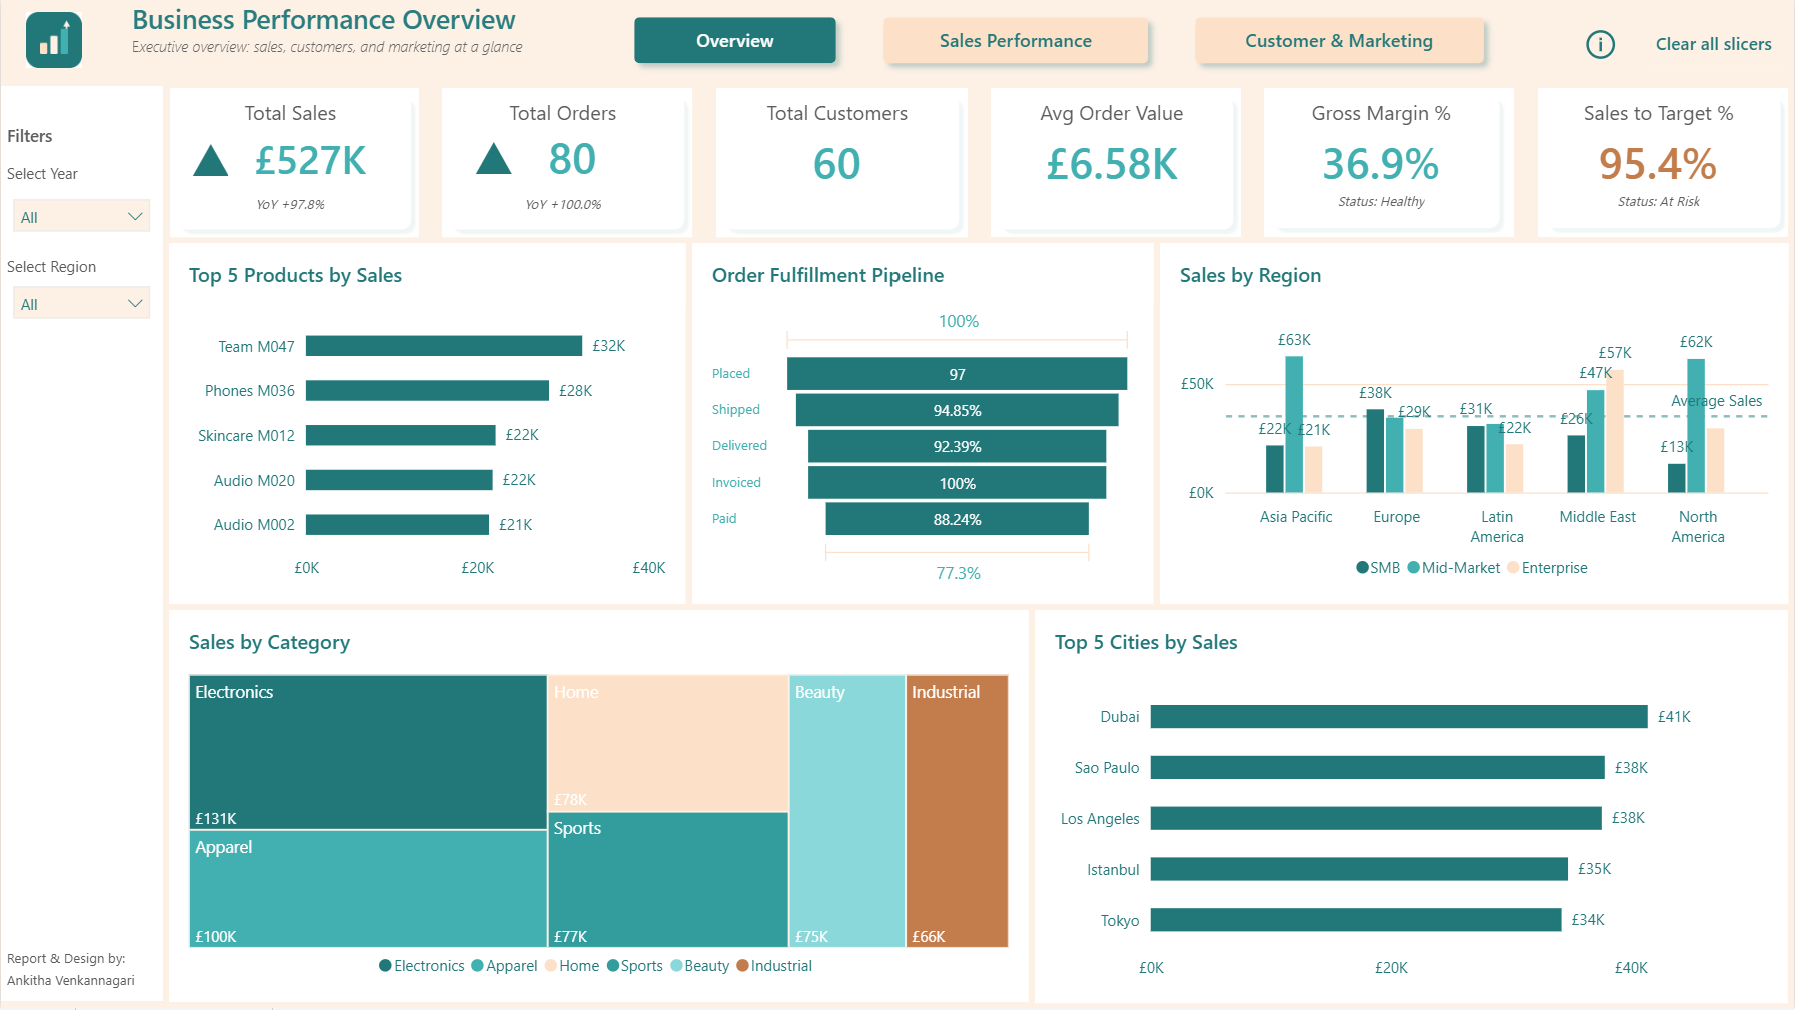

The dashboard page shown, as its layout file describes it:
{"tool":"powerbi","page":{"name":"Overview","canvas":[1440,810],"ordinal":0},"visuals":[{"type":"shape","title":"side_shape","box":[0,69,130,735],"z":0,"group":"g1"},{"type":"shape","box":[135.4,70.5,200,120],"z":0,"group":"g6"},{"type":"shape","box":[354.7,70.5,200.9,120],"z":0,"group":"g7"},{"type":"shape","box":[575,70.5,200.9,120],"z":0,"group":"g2"},{"type":"shape","box":[794.6,70.5,200.9,120],"z":0,"group":"g3"},{"type":"shape","box":[1014.3,70.5,195.5,118.9],"z":0,"group":"g4"},{"type":"shape","box":[1234,70.5,201,118.9],"z":0,"group":"g5"},{"type":"textbox","title":"Business Performance Overview","box":[105,0,341.2,60],"z":1000},{"type":"textbox","box":[1038.6,79.4,140.4,24.8],"z":1000,"group":"g4"},{"type":"textbox","box":[1259,79.4,144.3,24.8],"z":1000,"group":"g5"},{"type":"textbox","box":[160.3,79.5,143.6,25],"z":1000,"group":"g6"},{"type":"textbox","box":[379.7,79.5,144.2,25],"z":1000,"group":"g7"},{"type":"textbox","box":[600,79.5,144.2,25],"z":1000,"group":"g2"},{"type":"textbox","box":[819.6,79.5,144.2,25],"z":1000,"group":"g3"},{"type":"textbox","box":[5,100,120,20],"z":1000,"group":"g1"},{"type":"actionButton","box":[500,5,180,55],"z":2000},{"type":"cardVisual","fields":{"Data":["_measures.total_orders"]},"box":[409,100,100,50],"z":2000,"group":"g7"},{"type":"cardVisual","fields":{"Data":["_measures.total_sales"]},"box":[185,100.3,125.9,50.5],"z":2000,"group":"g6"},{"type":"cardVisual","fields":{"Data":["_measures.Gross Margin %"]},"box":[1038.6,104.1,140.4,49.5],"z":2000,"group":"g4"},{"type":"cardVisual","fields":{"Data":["_measures.Sales to Target %"]},"box":[1259,104.1,144.3,49.5],"z":2000,"group":"g5"},{"type":"cardVisual","fields":{"Data":["_measures.Total Customers"]},"box":[600,104.5,144.2,50],"z":2000,"group":"g2"},{"type":"cardVisual","fields":{"Data":["_measures.Avg Order Value"]},"box":[819.6,104.5,144.2,50],"z":2000,"group":"g3"},{"type":"textbox","box":[5,130,120,20],"z":2000,"group":"g1"},{"type":"actionButton","box":[700,5,230,55],"z":3000},{"type":"cardVisual","fields":{"Data":["_measures.Margin Insight"]},"box":[1038.6,143.8,140.4,35.9],"z":3000,"group":"g4"},{"type":"cardVisual","fields":{"Data":["_measures.Target Insight"]},"box":[1259,143.8,144.3,35.9],"z":3000,"group":"g5"},{"type":"cardVisual","fields":{"Data":["_measures.Sales Insight"]},"box":[160.3,144.5,143.6,36.2],"z":3000,"group":"g6"},{"type":"cardVisual","fields":{"Data":["_measures.Orders Insight"]},"box":[379.7,144.5,144.2,36.2],"z":3000,"group":"g7"},{"type":"slicer","fields":{"Values":["dim_date.Year"]},"box":[5,155,120,35],"z":3000,"group":"g1"},{"type":"actionButton","box":[950,5,250,55],"z":4000},{"type":"textbox","box":[5,205,120,20],"z":4000,"group":"g1"},{"type":"slicer","fields":{"Values":["dim_geo.region"]},"box":[5,225,120,35],"z":5000,"group":"g1"},{"type":"treemap","title":"Sales by Category","fields":{"Group":["dim_product.category"],"Values":["_measures.total_sales"]},"box":[135,490,690,315],"z":5000},{"type":"clusteredColumnChart","title":"Sales by Region","fields":{"Category":["dim_geo.region"],"Series":["dim_customer.segment"],"Y":["_measures.total_sales"]},"box":[930.4,195,505,290],"z":6000},{"type":"textbox","box":[5,760,120,40],"z":6000,"group":"g1"},{"type":"funnel","title":"Order Fulfillment Pipeline","fields":{"Category":["FulfillmentFunnelStages.Stage"],"Y":["_measures.Funnel Stage Value"]},"box":[555,195,370,290],"z":7000},{"type":"barChart","title":"Top 5 Products by Sales","fields":{"Category":["dim_product.product_name"],"Y":["_measures.total_sales"]},"box":[135,195,415,290],"z":8000},{"type":"barChart","title":"Top 5 Cities by Sales","fields":{"Category":["dim_geo.city"],"Y":["_measures.total_sales"]},"box":[830,490,605,315.9],"z":9000},{"type":"actionButton","box":[1259.4,15.1,50,40],"z":10000},{"type":"actionButton","box":[1315.9,15.1,118.1,40.4],"z":11000},{"type":"image","box":[20,10,45,45],"z":12000},{"type":"group","id":"g1","title":"Group 1","box":[0,69,130,735],"z":13000},{"type":"group","id":"g2","title":"Group 2","box":[575,70.5,200.9,120],"z":14000},{"type":"group","id":"g3","title":"Group 2","box":[794.6,70.5,200.9,120],"z":15000},{"type":"group","id":"g4","title":"Group 2","box":[1014.3,70.5,200.4,120],"z":16000},{"type":"group","id":"g5","title":"Group 2","box":[1234,70.5,200,120],"z":17000},{"type":"group","id":"g6","title":"Group 3","box":[135.4,70.5,200,120],"z":18000},{"type":"group","id":"g7","title":"Group 4","box":[354.7,70.5,200.9,120],"z":19000},{"type":"cardVisual","fields":{"Data":["_measures.Sales Trend Arrow"]},"box":[136,100,62,50],"z":20000,"group":"g6"},{"type":"cardVisual","fields":{"Data":["_measures.Orders Trend Arrow"]},"box":[364,100,66,46],"z":20001,"group":"g7"}]}

Visuals, with their boxes in screenshot pixels (x1, y1, x2, y2), scaled from the page's 1440x810 canvas onto the 1795x1010 screenshot:
"side_shape" shape: <region>0, 86, 162, 1003</region>
shape: <region>169, 88, 418, 238</region>
shape: <region>442, 88, 693, 238</region>
shape: <region>717, 88, 967, 238</region>
shape: <region>990, 88, 1241, 238</region>
shape: <region>1264, 88, 1508, 236</region>
shape: <region>1538, 88, 1789, 236</region>
"Business Performance Overview" textbox: <region>131, 0, 556, 75</region>
textbox: <region>1295, 99, 1470, 130</region>
textbox: <region>1569, 99, 1749, 130</region>
textbox: <region>200, 99, 379, 130</region>
textbox: <region>473, 99, 653, 130</region>
textbox: <region>748, 99, 928, 130</region>
textbox: <region>1022, 99, 1201, 130</region>
textbox: <region>6, 125, 156, 150</region>
actionButton: <region>623, 6, 848, 75</region>
cardVisual - _measures.total_orders: <region>510, 125, 634, 187</region>
cardVisual - _measures.total_sales: <region>231, 125, 388, 188</region>
cardVisual - _measures.Gross Margin %: <region>1295, 130, 1470, 192</region>
cardVisual - _measures.Sales to Target %: <region>1569, 130, 1749, 192</region>
cardVisual - _measures.Total Customers: <region>748, 130, 928, 193</region>
cardVisual - _measures.Avg Order Value: <region>1022, 130, 1201, 193</region>
textbox: <region>6, 162, 156, 187</region>
actionButton: <region>873, 6, 1159, 75</region>
cardVisual - _measures.Margin Insight: <region>1295, 179, 1470, 224</region>
cardVisual - _measures.Target Insight: <region>1569, 179, 1749, 224</region>
cardVisual - _measures.Sales Insight: <region>200, 180, 379, 225</region>
cardVisual - _measures.Orders Insight: <region>473, 180, 653, 225</region>
slicer - dim_date.Year: <region>6, 193, 156, 237</region>
actionButton: <region>1184, 6, 1496, 75</region>
textbox: <region>6, 256, 156, 281</region>
slicer - dim_geo.region: <region>6, 281, 156, 324</region>
"Sales by Category" treemap: <region>168, 611, 1028, 1004</region>
"Sales by Region" clusteredColumnChart: <region>1160, 243, 1789, 605</region>
textbox: <region>6, 948, 156, 998</region>
"Order Fulfillment Pipeline" funnel: <region>692, 243, 1153, 605</region>
"Top 5 Products by Sales" barChart: <region>168, 243, 686, 605</region>
"Top 5 Cities by Sales" barChart: <region>1035, 611, 1789, 1005</region>
actionButton: <region>1570, 19, 1632, 69</region>
actionButton: <region>1640, 19, 1788, 69</region>
image: <region>25, 12, 81, 69</region>
"Group 1" group: <region>0, 86, 162, 1003</region>
"Group 2" group: <region>717, 88, 967, 238</region>
"Group 2" group: <region>990, 88, 1241, 238</region>
"Group 2" group: <region>1264, 88, 1514, 238</region>
"Group 2" group: <region>1538, 88, 1788, 238</region>
"Group 3" group: <region>169, 88, 418, 238</region>
"Group 4" group: <region>442, 88, 693, 238</region>
cardVisual - _measures.Sales Trend Arrow: <region>170, 125, 247, 187</region>
cardVisual - _measures.Orders Trend Arrow: <region>454, 125, 536, 182</region>
